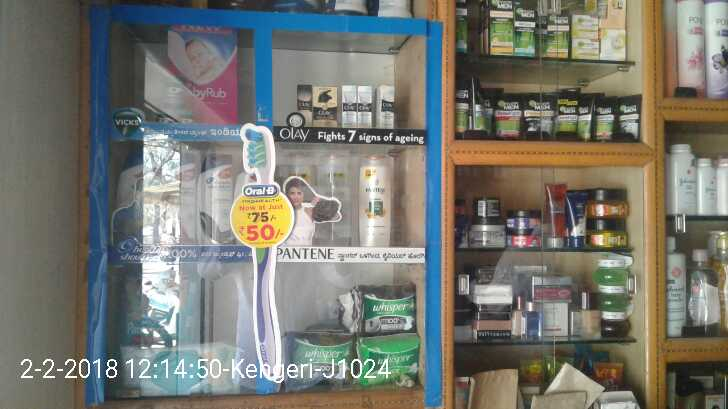beauty: (197, 152, 233, 246), (357, 155, 391, 247), (371, 85, 397, 126), (313, 84, 338, 126), (296, 83, 314, 126), (340, 84, 357, 129), (355, 86, 373, 127)
pharmacy: (340, 280, 414, 333), (355, 331, 419, 386), (161, 74, 185, 111)
